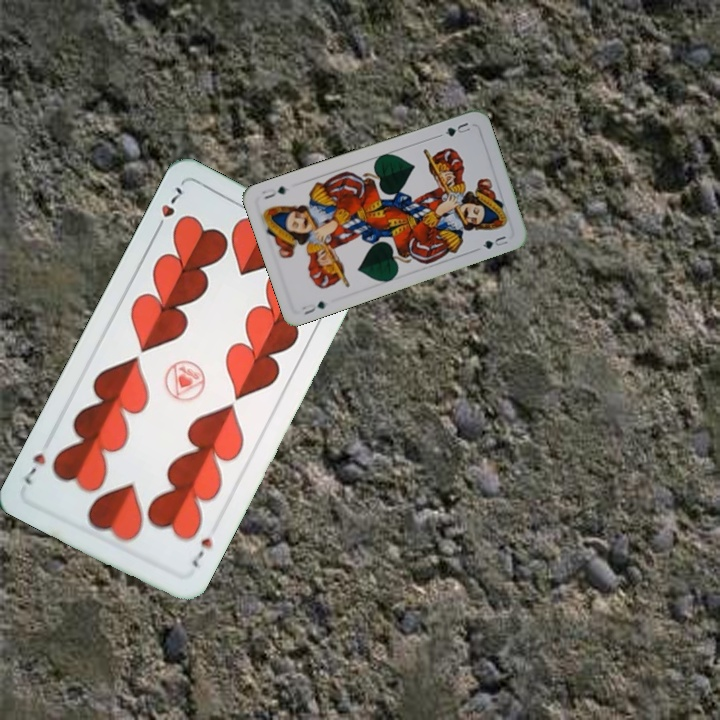GU: (441, 118, 473, 139), (298, 297, 329, 317)
H7: (151, 182, 186, 235), (188, 533, 216, 570)
